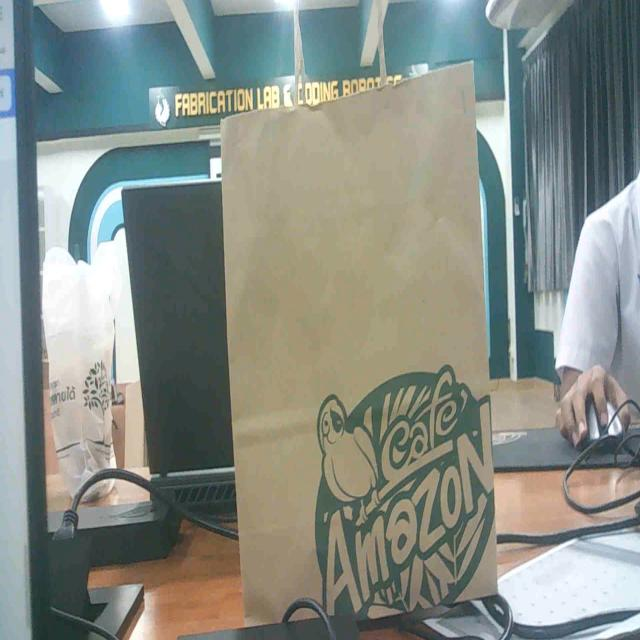bag: (205, 34, 546, 640)
